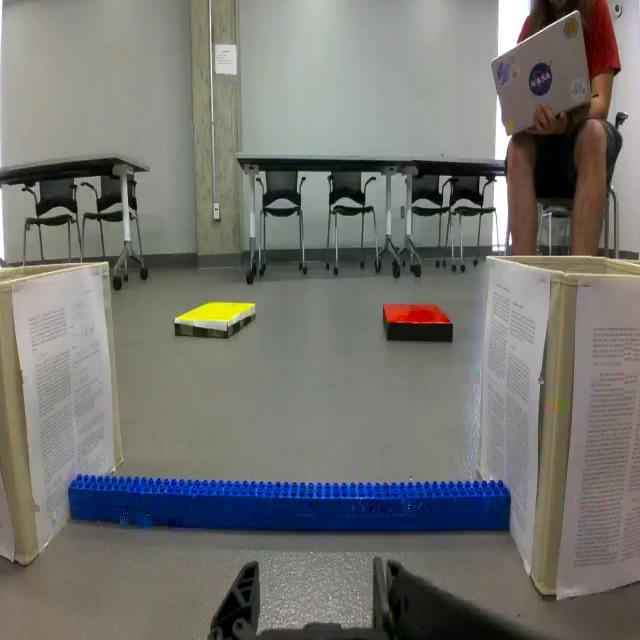red: (384, 305, 453, 340)
river: (69, 473, 511, 533)
storage cube: (476, 255, 640, 598), (0, 262, 123, 566)
yellow goal: (174, 300, 256, 339)
